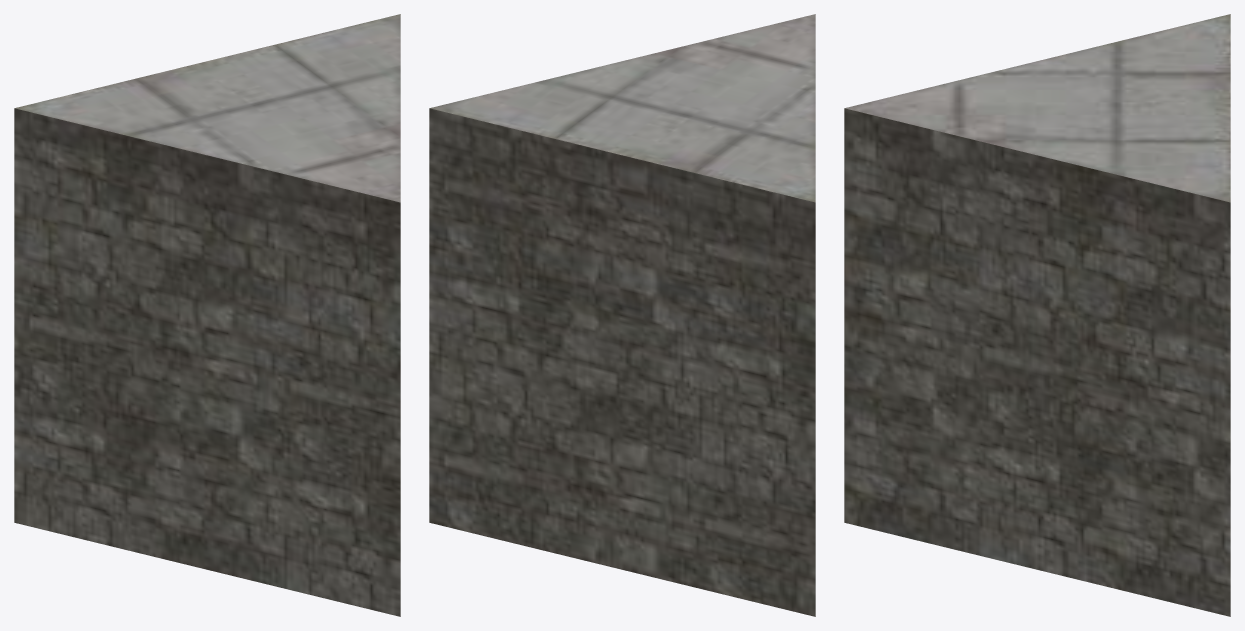
The model's file is stone_foundation_triangle_high_textured.glb.
3 renders of one model, left to right at view 1: azimuth 30°, elevation 25°; view 2: azimuth 150°, elevation 25°; view 3: azimuth 270°, elevation 25°, orthographic.
Parts seen in each view (by area): view 1: Circle; view 2: Circle; view 3: Circle.
Boxes of the visible parts, left/top/right/bottom form: Circle: left=14, top=14, right=400, bottom=616; Circle: left=429, top=14, right=815, bottom=616; Circle: left=844, top=14, right=1230, bottom=616.
Size of the model in its own units: 2 by 2.05 by 1.73.
1 material, 1 textured.
